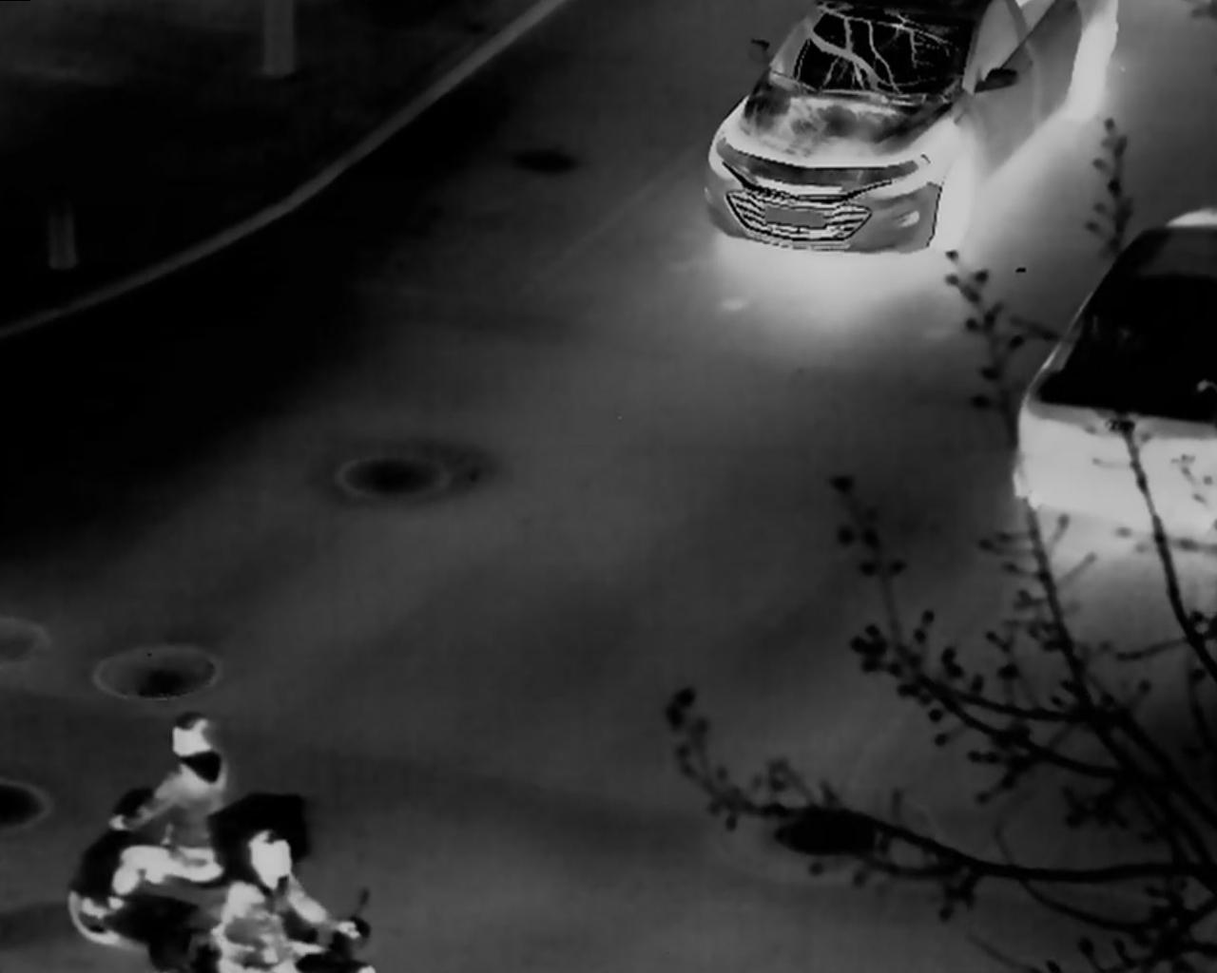person: (216, 826, 362, 973), (109, 715, 225, 892)
